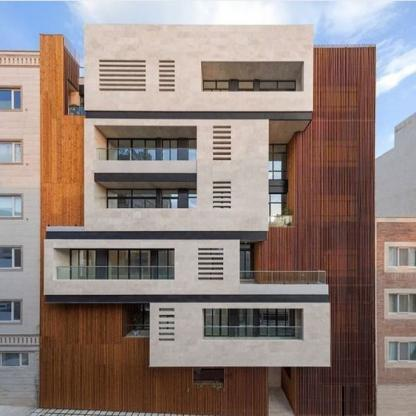Balcony: (57, 266, 174, 280), (203, 326, 304, 339), (96, 148, 197, 160), (240, 271, 326, 285), (269, 216, 294, 228), (125, 325, 149, 337), (68, 107, 86, 115)
Building Outline: (40, 24, 375, 416)
Door: (158, 249, 175, 280), (240, 249, 254, 279), (239, 309, 253, 336), (163, 139, 178, 160), (144, 305, 150, 330)
Door Hole: (268, 366, 295, 416)
Facade: (40, 76, 374, 416)
Floor: (40, 120, 375, 179), (40, 232, 375, 285), (40, 290, 375, 339), (40, 179, 375, 227)
Floor Slab: (40, 340, 375, 345), (40, 285, 375, 290), (40, 228, 375, 233), (40, 180, 375, 185), (40, 115, 375, 120)
Ground Floor: (40, 344, 375, 416)
Top Floor: (40, 77, 375, 115)
Window: (107, 249, 152, 280), (107, 139, 156, 160), (203, 81, 296, 92), (107, 189, 157, 209), (259, 309, 295, 336), (70, 249, 97, 280), (203, 309, 229, 336), (269, 144, 287, 179), (269, 193, 287, 224), (193, 368, 224, 385), (161, 189, 179, 209), (134, 305, 143, 330), (189, 139, 197, 160), (189, 189, 197, 209), (240, 244, 254, 249)
Window Hole: (54, 249, 174, 280), (95, 173, 197, 209), (95, 125, 197, 160), (203, 309, 304, 340), (201, 62, 304, 92), (269, 119, 296, 227), (240, 239, 260, 285), (123, 303, 149, 337)
